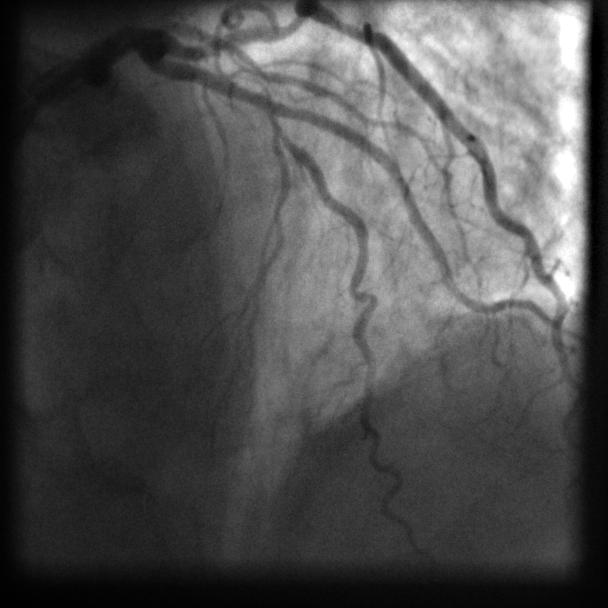Stenosis: (248, 65, 282, 123)
